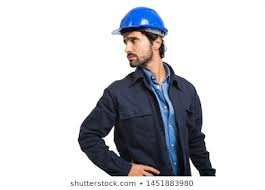Person_wearing_helmet: (111, 3, 167, 51)
